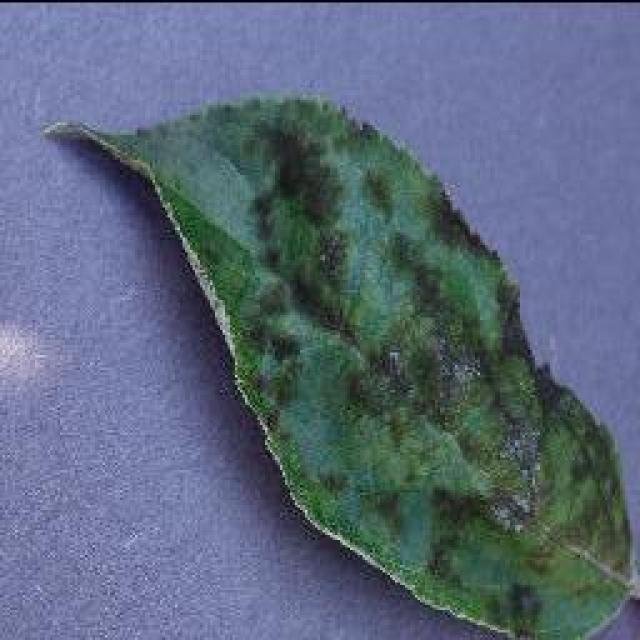apple scab disease: (40, 88, 638, 638)
